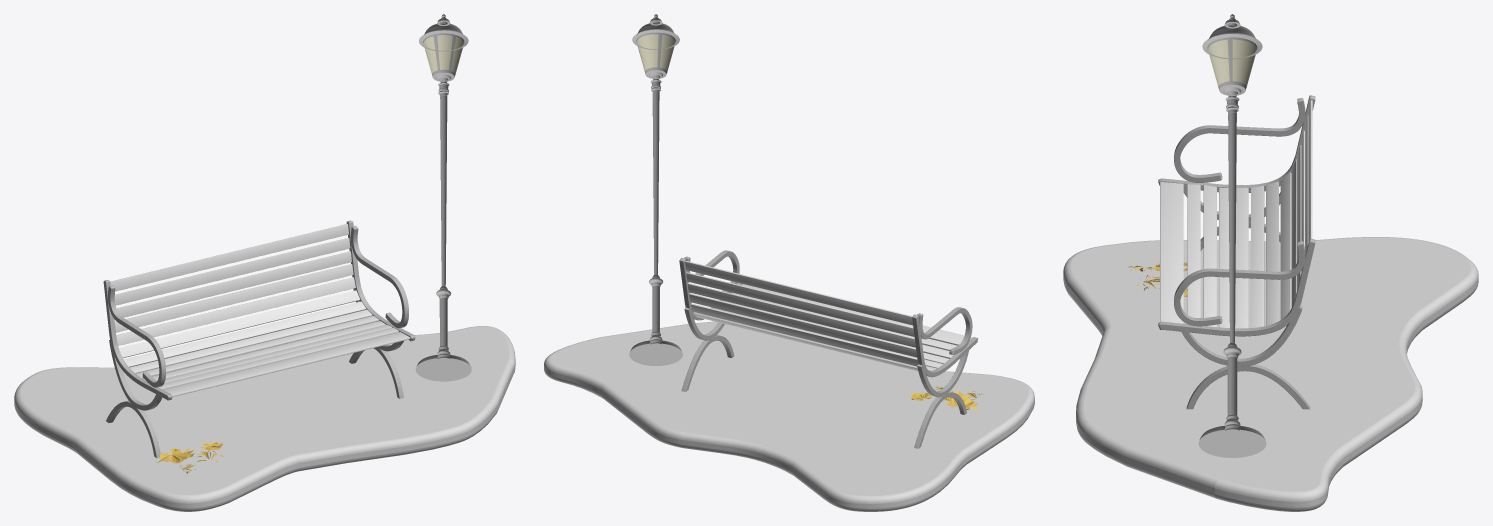
Rendered from Autumn.glb.
3 views of the same model, side by side, from view 1: azimuth 30°, elevation 25°; view 2: azimuth 150°, elevation 25°; view 3: azimuth 270°, elevation 25° (orthographic). The views are drawn at different scales.
Visible parts, largest first — view 1: Extrude, Lathe-Mat.6, Cube, Cube.1, Cube.2, Cube.4, Cube.3, Cube.5, Cube.12, Cube.6, Sweep.1 (×2), Cube.7 (+8 smaller); view 2: Extrude, Lathe-Mat.6, Cube.1, Cube.2, Cube, Cube.3, Cube.4, Sweep.3 (×2), Cube.5, Lathe-Mat.5, Cube.12, Sweep.1 (+3 smaller); view 3: Extrude, Lathe-Mat.6, Sweep.1 (×2), Cube.12, Sweep (×2), Cube.7, Cube.8, Cube.10, Cube.11, Cube.6, Lathe-Mat.5, Cube.5 (+7 smaller).
Part boxes in pixels (x1=…): Extrude: x1=14, y1=326, x2=515, y2=511; Lathe-Mat.6: x1=415, y1=14, x2=471, y2=381; Cube: x1=110, y1=224, x2=348, y2=291; Cube.1: x1=114, y1=237, x2=350, y2=305; Cube.2: x1=114, y1=251, x2=351, y2=319; Cube.4: x1=116, y1=277, x2=355, y2=345; Cube.3: x1=115, y1=264, x2=353, y2=332; Cube.5: x1=119, y1=290, x2=360, y2=357; Cube.12: x1=163, y1=332, x2=410, y2=396; Cube.6: x1=123, y1=301, x2=366, y2=367; Sweep.1 (×2): x1=108, y1=225, x2=408, y2=387; Cube.7: x1=129, y1=309, x2=372, y2=373; Extrude: x1=544, y1=321, x2=1034, y2=511; Lathe-Mat.6: x1=629, y1=14, x2=682, y2=365; Cube.1: x1=686, y1=272, x2=914, y2=336; Cube.2: x1=687, y1=283, x2=915, y2=347; Cube: x1=685, y1=261, x2=912, y2=325; Cube.3: x1=689, y1=293, x2=917, y2=357; Cube.4: x1=690, y1=303, x2=918, y2=366; Sweep.3 (×2): x1=681, y1=335, x2=966, y2=448; Cube.5: x1=693, y1=312, x2=917, y2=370; Lathe-Mat.5: x1=637, y1=34, x2=675, y2=71; Cube.12: x1=741, y1=284, x2=972, y2=345; Sweep.1: x1=917, y1=307, x2=972, y2=354; Extrude: x1=1063, y1=237, x2=1478, y2=511; Lathe-Mat.6: x1=1198, y1=14, x2=1266, y2=457; Sweep.1 (×2): x1=1174, y1=98, x2=1305, y2=326; Cube.12: x1=1160, y1=182, x2=1183, y2=323; Sweep (×2): x1=1158, y1=95, x2=1315, y2=336; Cube.7: x1=1251, y1=186, x2=1264, y2=327; Cube.8: x1=1235, y1=188, x2=1248, y2=328; Cube.10: x1=1203, y1=185, x2=1216, y2=326; Cube.11: x1=1187, y1=184, x2=1200, y2=324; Cube.6: x1=1266, y1=181, x2=1278, y2=325; Lathe-Mat.5: x1=1208, y1=39, x2=1256, y2=86; Cube.5: x1=1280, y1=172, x2=1291, y2=319.
Bounding box in the file's own units: 2933 × 2358 × 1976.
Materials: 35 (16 with a texture image).
